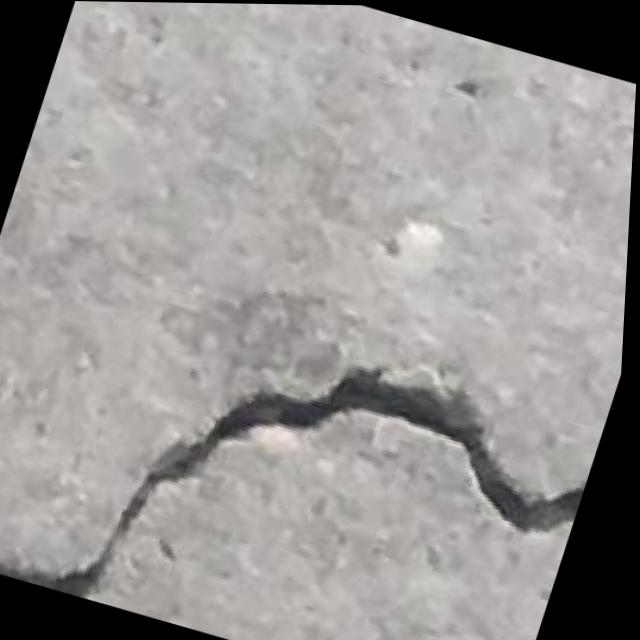Crack: (0, 236, 620, 640)
